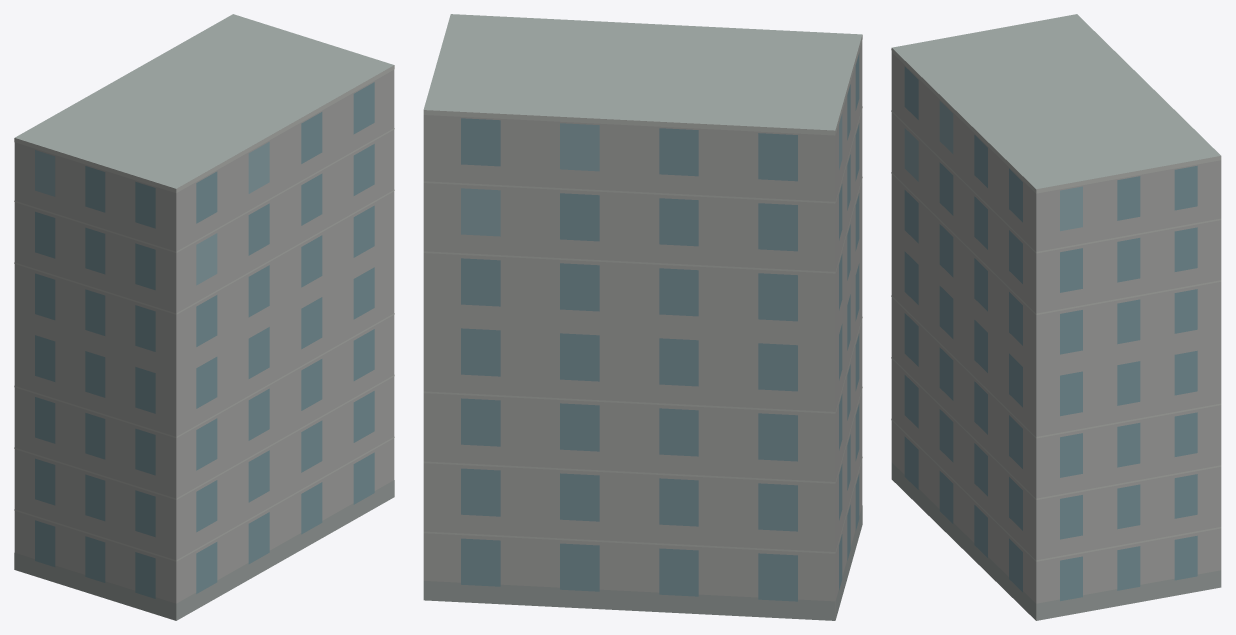
Rendered from survey-upis-32788542.glb.
3 views of the same model, side by side, from view 1: azimuth 30°, elevation 25°; view 2: azimuth 150°, elevation 25°; view 3: azimuth 270°, elevation 25° (orthographic). The views are drawn at different scales.
Parts seen in each view (by area): view 1: survey-upis-32788542.tmp; view 2: survey-upis-32788542.tmp; view 3: survey-upis-32788542.tmp.
Boxes of the visible parts, x1=… form: survey-upis-32788542.tmp: x1=14, y1=14, x2=394, y2=620; survey-upis-32788542.tmp: x1=423, y1=14, x2=862, y2=620; survey-upis-32788542.tmp: x1=891, y1=14, x2=1221, y2=620.
Size of the model in its own units: 20.88 by 23.95 by 16.6.
